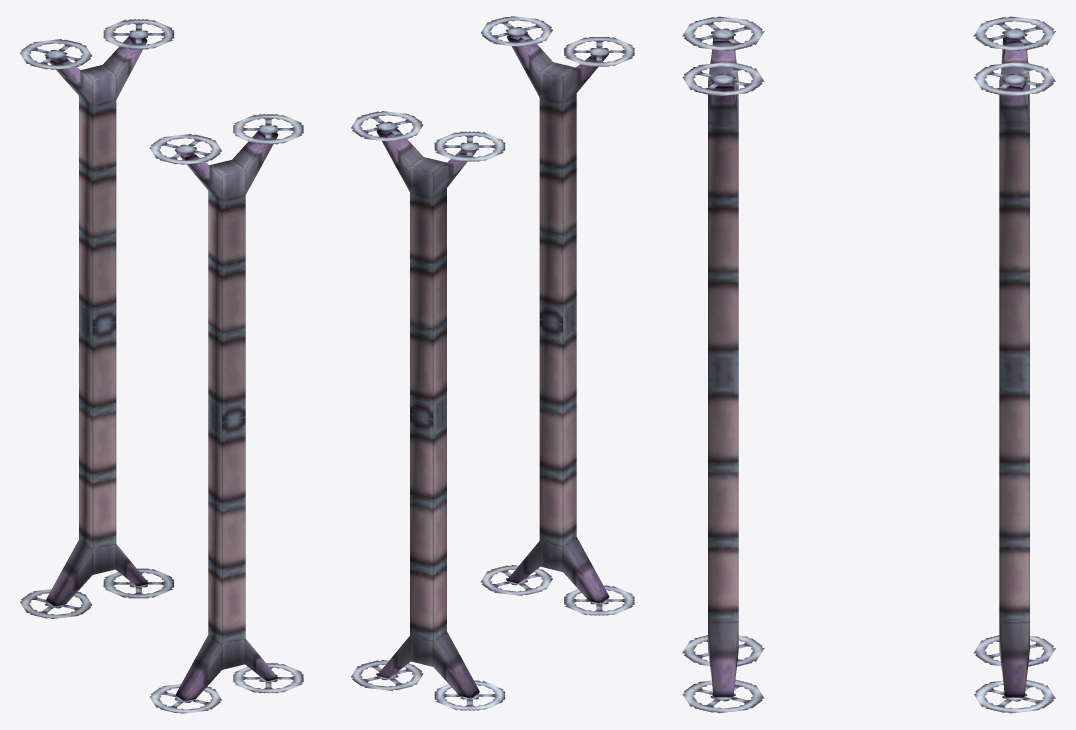
3 renders of one model, left to right at view 1: azimuth 30°, elevation 25°; view 2: azimuth 150°, elevation 25°; view 3: azimuth 270°, elevation 25°, orthographic. The views are drawn at different scales.
Parts seen in each view (by area): view 1: T1L7M002_7; view 2: T1L7M002_7; view 3: T1L7M002_7.
Boxes of the visible parts, <box> form: T1L7M002_7: <box>20,19,303,713</box>; T1L7M002_7: <box>351,16,634,710</box>; T1L7M002_7: <box>682,16,1055,713</box>.
Bounding box in the file's own units: 1.11 × 3.76 × 2.13.
